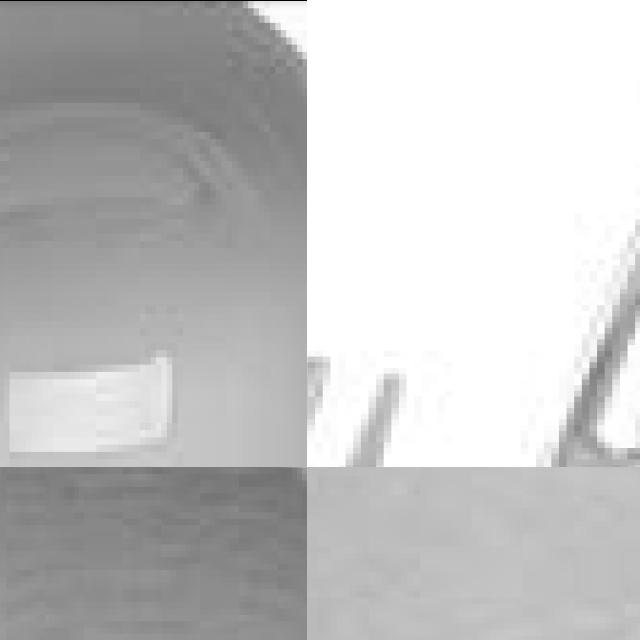spoons: (0, 0, 307, 467), (0, 467, 307, 640)
